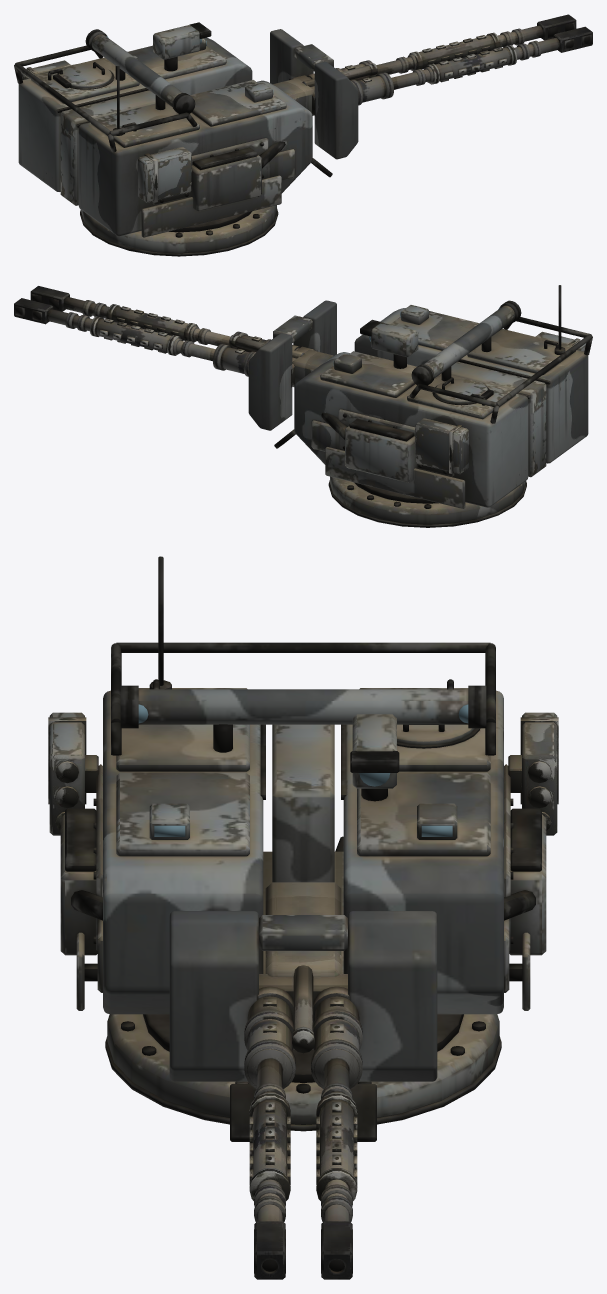
Rendered from turret_kit_t3_shark.glb.
3 views of the same model, one above another, from view 1: azimuth 30°, elevation 25°; view 2: azimuth 150°, elevation 25°; view 3: azimuth 270°, elevation 25° (orthographic). The views are drawn at different scales.
Visible parts, largest first — view 1: turret_twin_t3, guns, pods; view 2: turret_twin_t3, guns, pods; view 3: turret_twin_t3, guns, pods.
Part boxes in pixels (x1,y1,x2,y2): turret_twin_t3: [14, 22, 358, 256]; guns: [273, 14, 592, 115]; pods: [21, 60, 191, 202]; turret_twin_t3: [248, 285, 592, 527]; guns: [14, 286, 333, 387]; pods: [415, 331, 586, 474]; turret_twin_t3: [60, 556, 546, 1141]; guns: [244, 882, 362, 1279]; pods: [48, 712, 558, 835].
Bounding box in the file's own units: 2.7 × 0.98 × 1.15.
4 materials, 3 textured.
